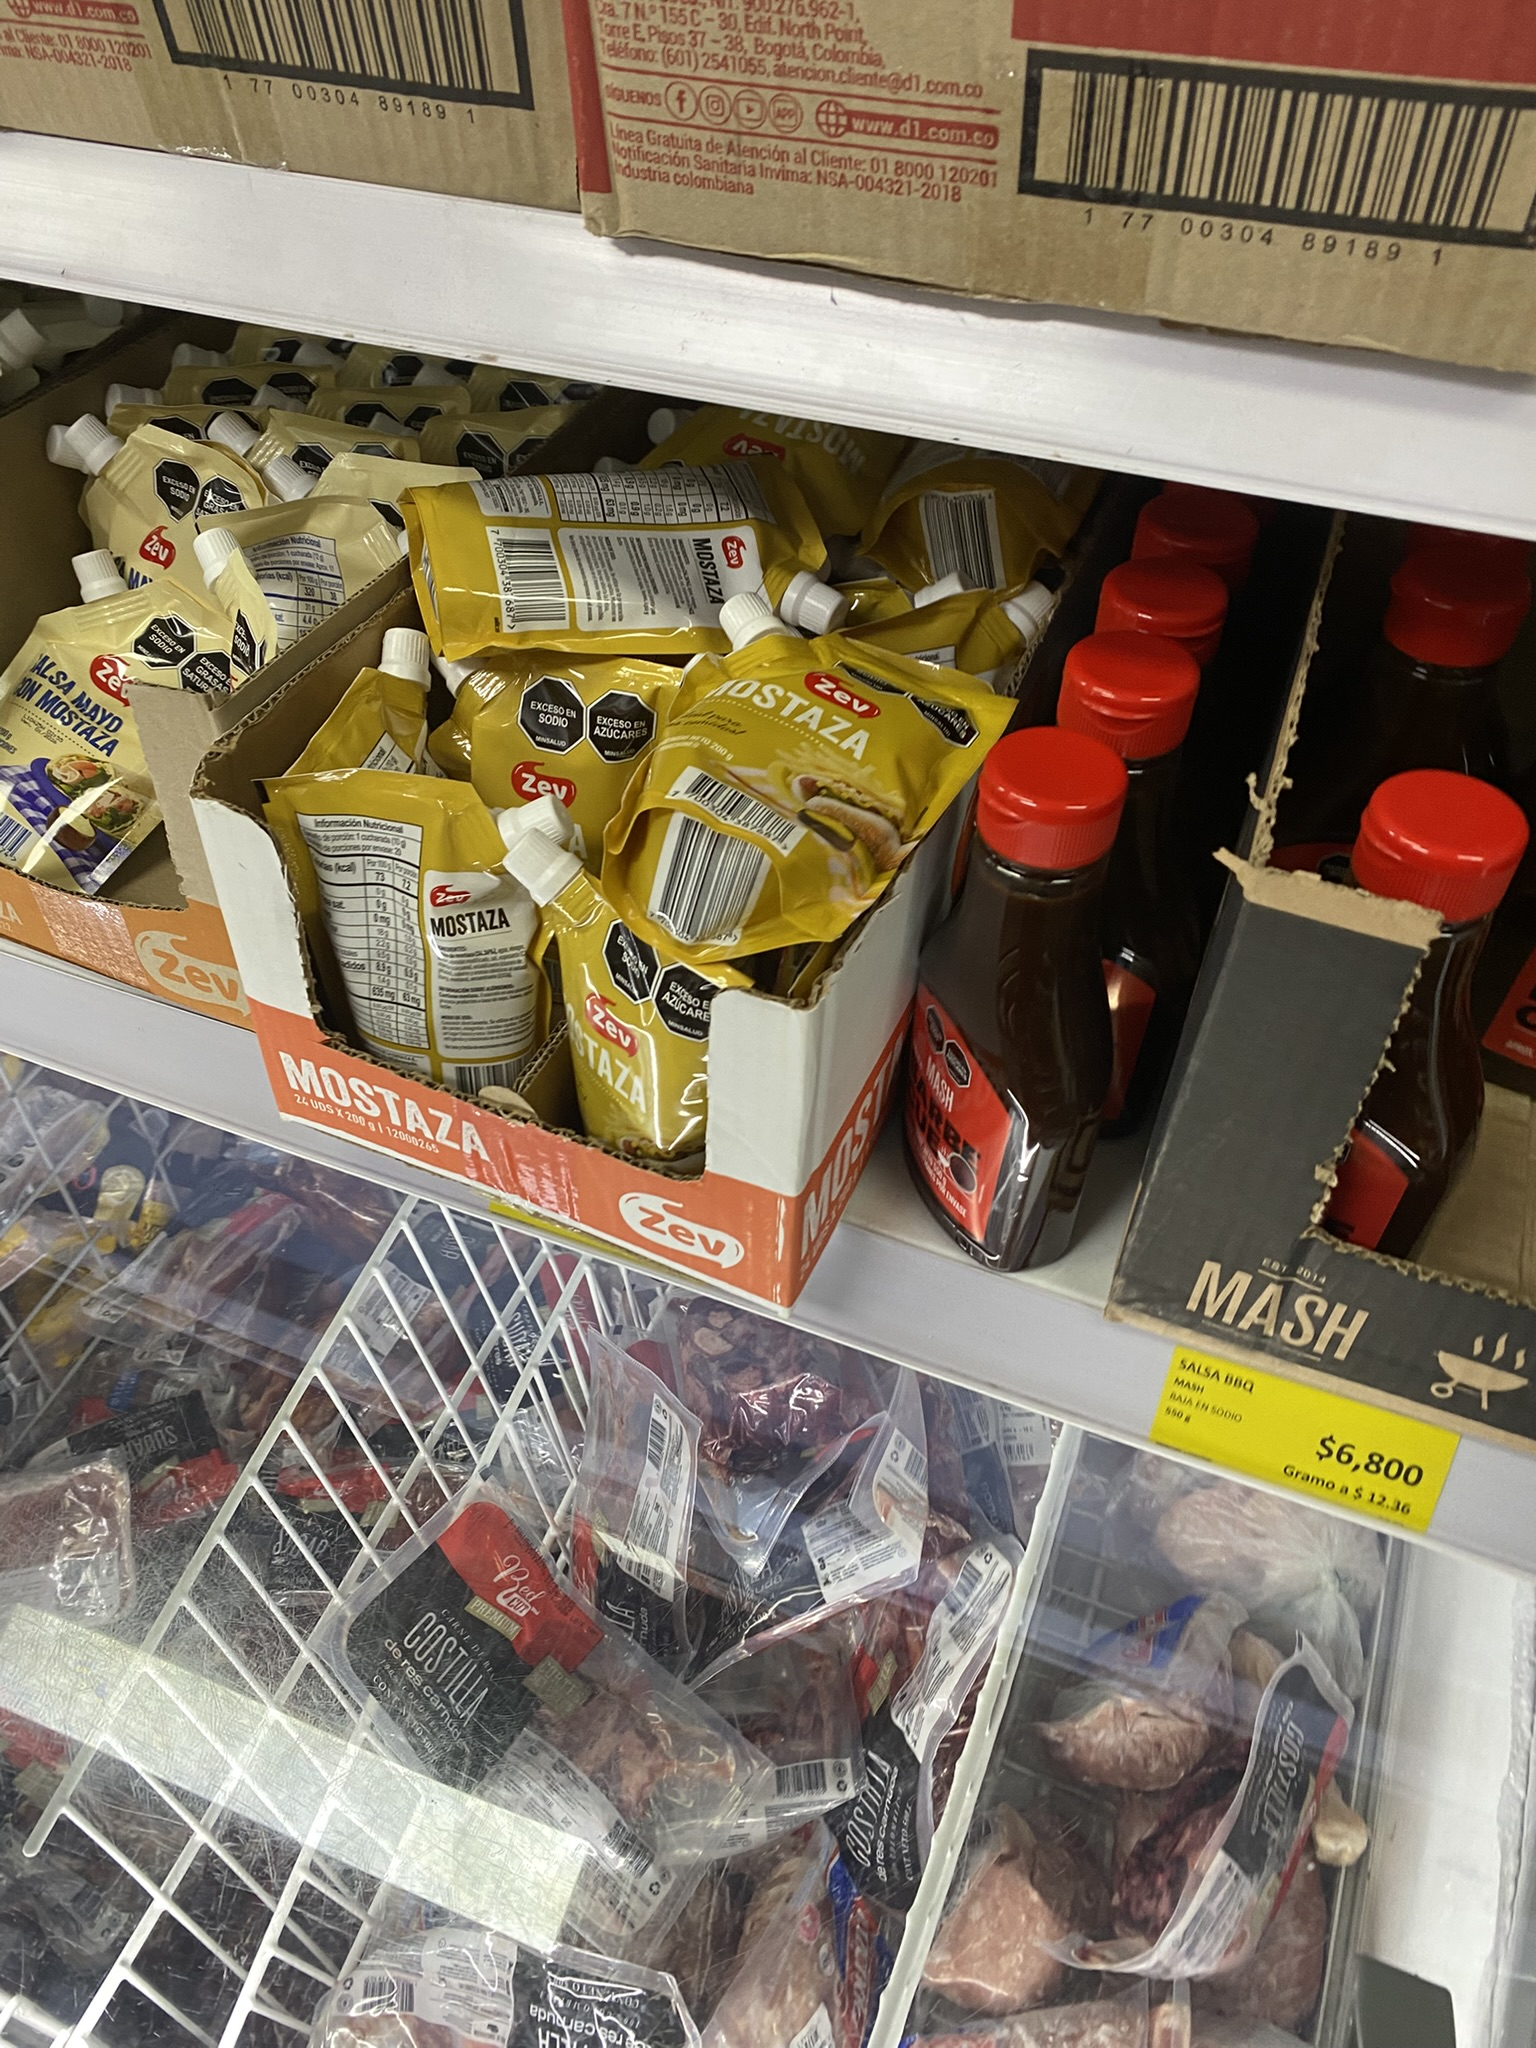Mostaza: (602, 593, 1018, 977), (384, 432, 824, 651), (503, 816, 747, 1171), (310, 784, 566, 1108), (449, 663, 655, 835)
